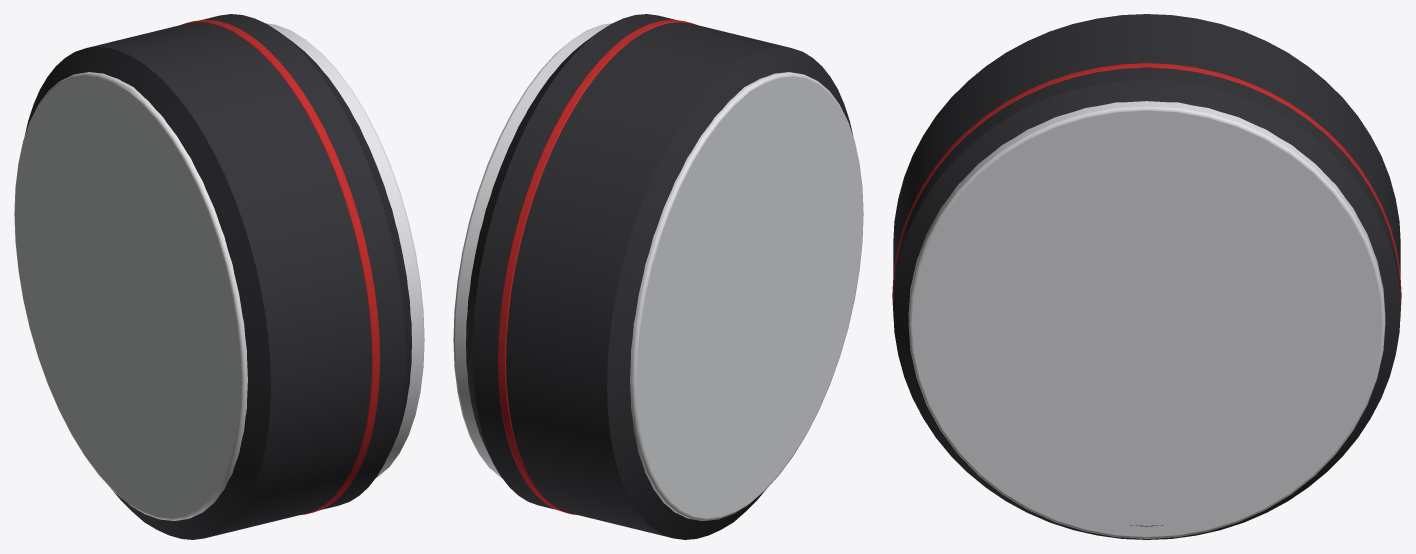
Rendered from canon_pl_rf.glb.
3 views of the same model, side by side, from view 1: azimuth 30°, elevation 25°; view 2: azimuth 150°, elevation 25°; view 3: azimuth 270°, elevation 25° (orthographic).
Visible parts, largest first — view 1: Canon PL-RF; view 2: Canon PL-RF; view 3: Canon PL-RF.
Part boxes in pixels (box(x1,y1,x2,y2)): Canon PL-RF: box(14, 14, 424, 539); Canon PL-RF: box(453, 14, 863, 539); Canon PL-RF: box(892, 14, 1401, 539).
Size of the model in its own units: 0.0322 by 0.0781 by 0.0782.
